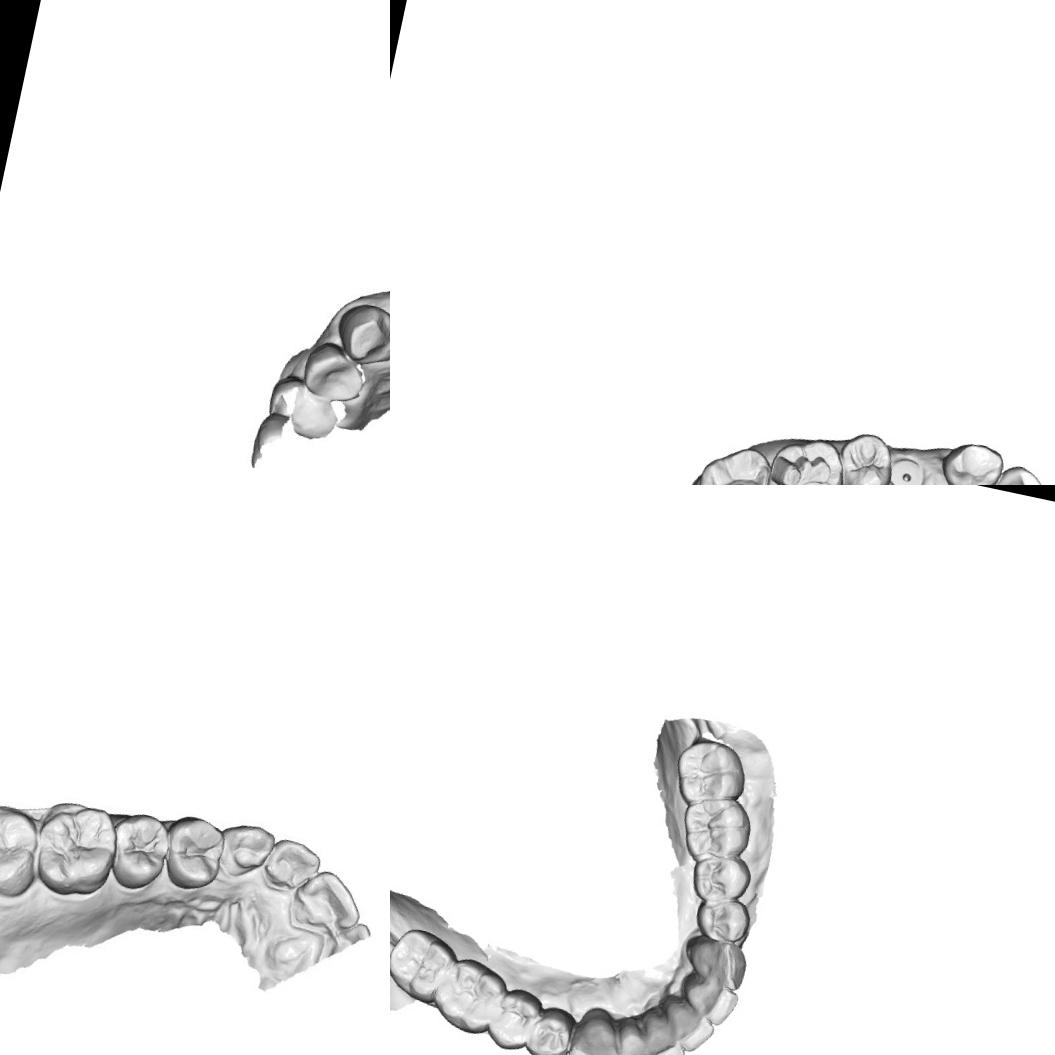canine: (676, 929, 753, 992), (335, 301, 390, 369), (933, 436, 1008, 485), (563, 1002, 629, 1055), (219, 818, 274, 878)
implant: (883, 451, 931, 485)
incisor: (653, 992, 721, 1055), (294, 870, 360, 932), (674, 971, 744, 1029), (266, 836, 322, 892), (633, 1004, 693, 1055), (611, 1013, 664, 1055), (976, 458, 1053, 485)
inlay: (760, 444, 835, 485)
molar: (24, 792, 128, 907), (430, 951, 514, 1041), (669, 733, 753, 816), (674, 789, 760, 869), (390, 921, 465, 1010), (0, 797, 49, 905), (687, 438, 779, 485)
premolar: (102, 805, 184, 899), (154, 808, 236, 898), (482, 982, 547, 1055), (300, 342, 369, 406), (688, 847, 756, 909), (829, 427, 900, 485), (690, 892, 756, 948), (521, 1000, 580, 1055)
